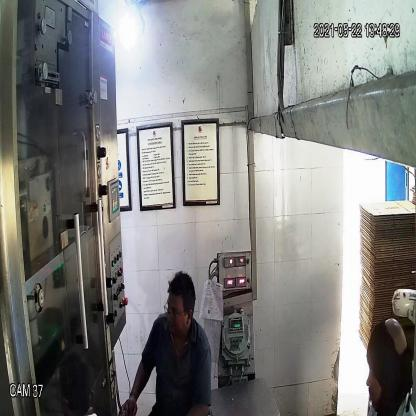goggles: (162, 300, 193, 322)
